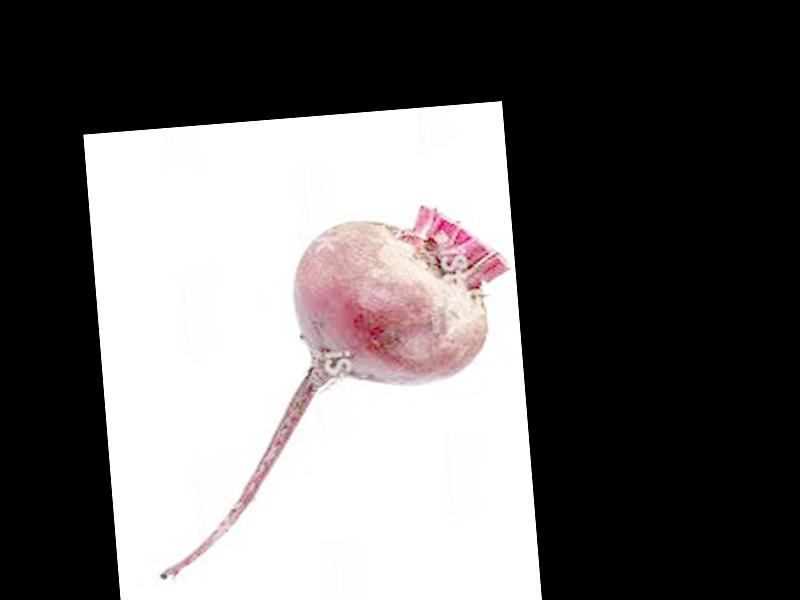Beet: (134, 201, 533, 580)
